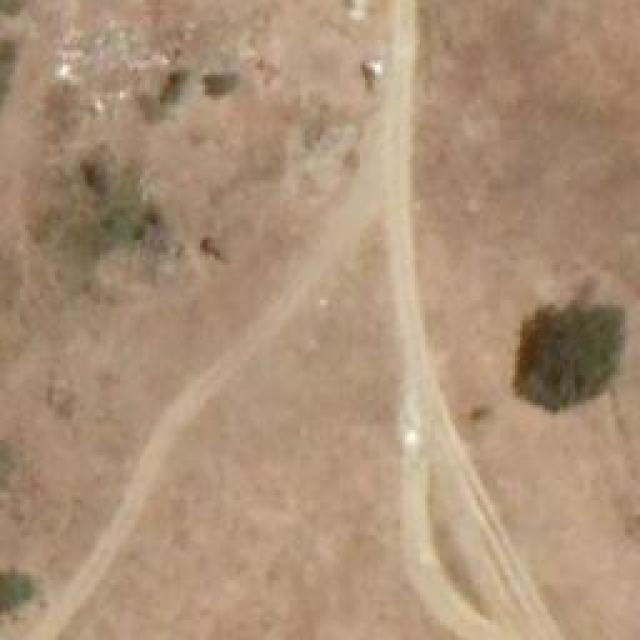Tree: (530, 305, 625, 405), (0, 567, 38, 615), (157, 65, 190, 104), (203, 70, 240, 96)
